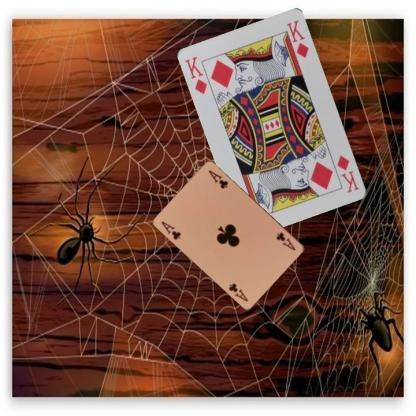Ac: (274, 229, 297, 252), (159, 218, 182, 241)
Kd: (182, 54, 210, 96), (334, 152, 360, 194)
